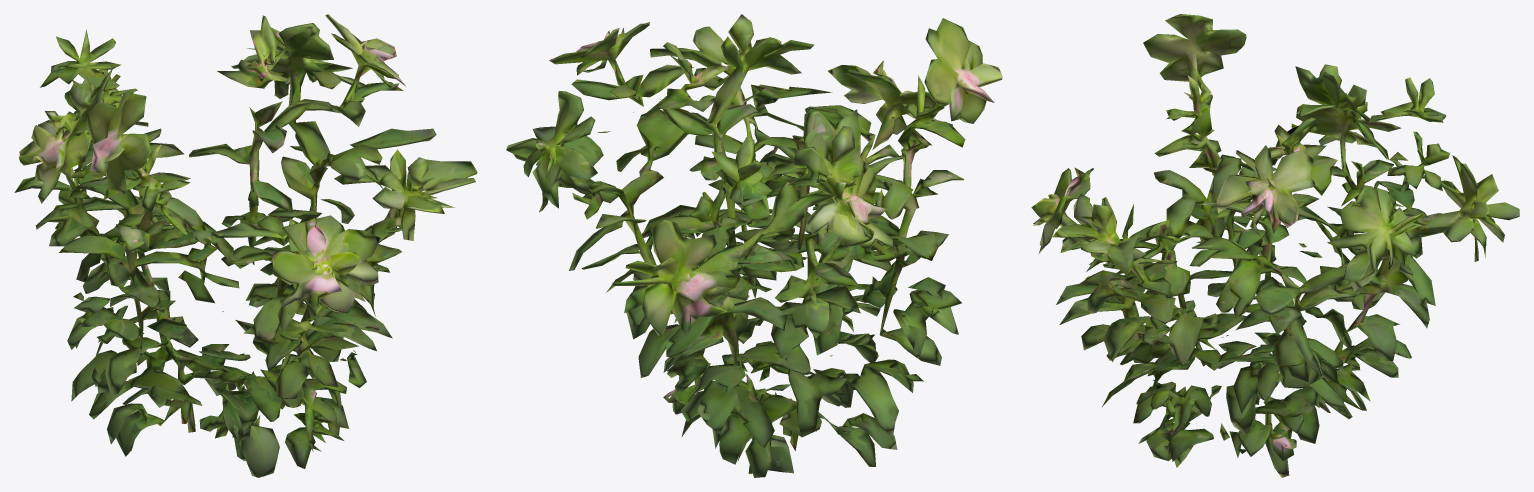
Rendered from brahmi.glb.
3 views of the same model, side by side, from view 1: azimuth 30°, elevation 25°; view 2: azimuth 150°, elevation 25°; view 3: azimuth 270°, elevation 25° (orthographic). The views are drawn at different scales.
Bounding box in the file's own units: 1.72 × 1.69 × 1.99.
Materials: 1 (1 with a texture image).
